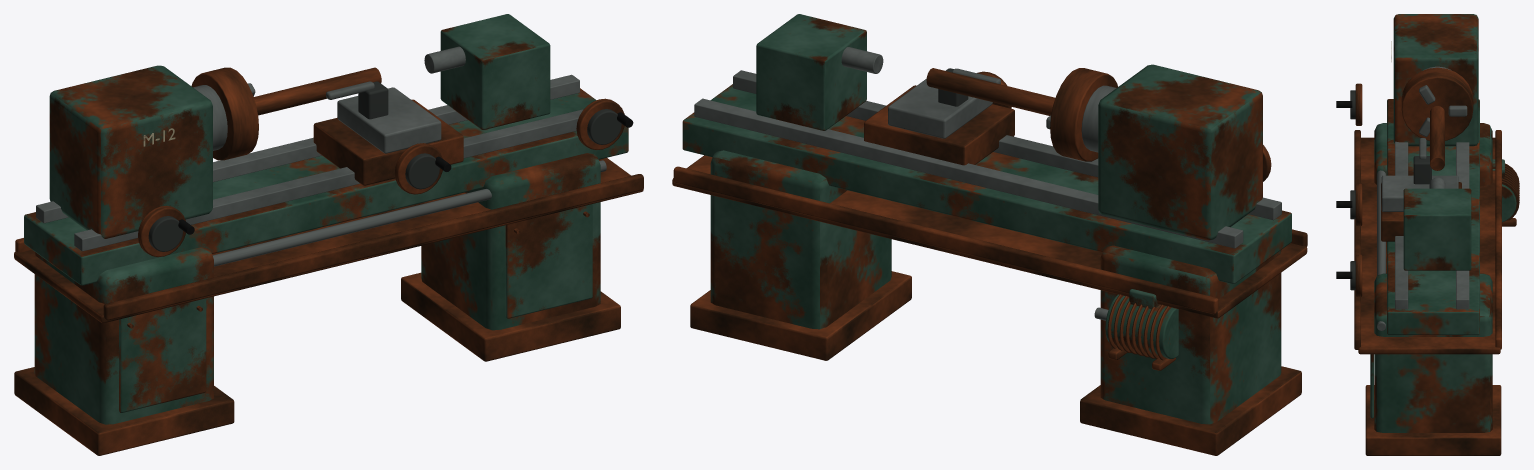
The model's file is industrial_lathe.glb.
3 views of the same model, side by side, from view 1: azimuth 30°, elevation 25°; view 2: azimuth 150°, elevation 25°; view 3: azimuth 270°, elevation 25° (orthographic). The views are drawn at different scales.
Parts seen in each view (by area): view 1: Headstock, Machine bed, Cast lathe pedestal, Cast lathe pedestal.001, Tailstock, Drip tray lip, Access cover, Access cover.001, Bent drip tray, Pedestal foot, Pedestal foot.001, Precision slide rail (+15 smaller); view 2: Headstock, Machine bed, Cast lathe pedestal.001, Cast lathe pedestal, Tailstock, Drip tray lip.001, Bent drip tray, Precision slide rail.001, Pedestal foot.001, Pedestal foot, Carriage, Three jaw chuck (+6 smaller); view 3: Cast lathe pedestal.001, Machine bed, Bent drip tray, Headstock, Tailstock, Pedestal foot.001, Three jaw chuck, Drip tray lip.001, Cast lathe pedestal, Precision slide rail, Cross slide, Precision slide rail.001 (+12 smaller).
Part boxes in pixels (x1,y1,x2,y2): Headstock: [49, 65, 212, 238]; Machine bed: [24, 88, 628, 285]; Cast lathe pedestal: [34, 247, 213, 424]; Cast lathe pedestal.001: [421, 153, 600, 330]; Tailstock: [440, 14, 550, 129]; Drip tray lip: [103, 174, 643, 320]; Access cover: [119, 298, 206, 412]; Access cover.001: [505, 204, 592, 318]; Bent drip tray: [14, 158, 643, 323]; Pedestal foot: [14, 367, 234, 455]; Pedestal foot.001: [401, 272, 620, 361]; Precision slide rail: [74, 109, 583, 251]; Headstock: [1098, 64, 1262, 240]; Machine bed: [682, 84, 1291, 283]; Cast lathe pedestal.001: [710, 150, 891, 329]; Cast lathe pedestal: [1100, 245, 1281, 424]; Tailstock: [756, 14, 866, 130]; Drip tray lip.001: [673, 166, 1218, 314]; Bent drip tray: [672, 155, 1307, 318]; Precision slide rail.001: [694, 98, 1243, 248]; Pedestal foot.001: [690, 271, 911, 360]; Pedestal foot: [1080, 366, 1301, 455]; Carriage: [864, 85, 1014, 165]; Three jaw chuck: [1050, 68, 1117, 161]; Cast lathe pedestal.001: [1374, 273, 1492, 432]; Machine bed: [1387, 99, 1479, 334]; Bent drip tray: [1358, 137, 1500, 354]; Headstock: [1393, 14, 1478, 146]; Tailstock: [1403, 188, 1471, 270]; Pedestal foot.001: [1365, 385, 1501, 455]; Three jaw chuck: [1401, 67, 1473, 140]; Drip tray lip.001: [1495, 130, 1501, 349]; Cast lathe pedestal: [1374, 123, 1492, 186]; Precision slide rail: [1395, 141, 1408, 309]; Cross slide: [1381, 175, 1458, 211]; Precision slide rail.001: [1456, 142, 1469, 309].
Size of the model in its own units: 3.8 by 2.06 by 1.38.
Materials: 6 (5 with a texture image).
